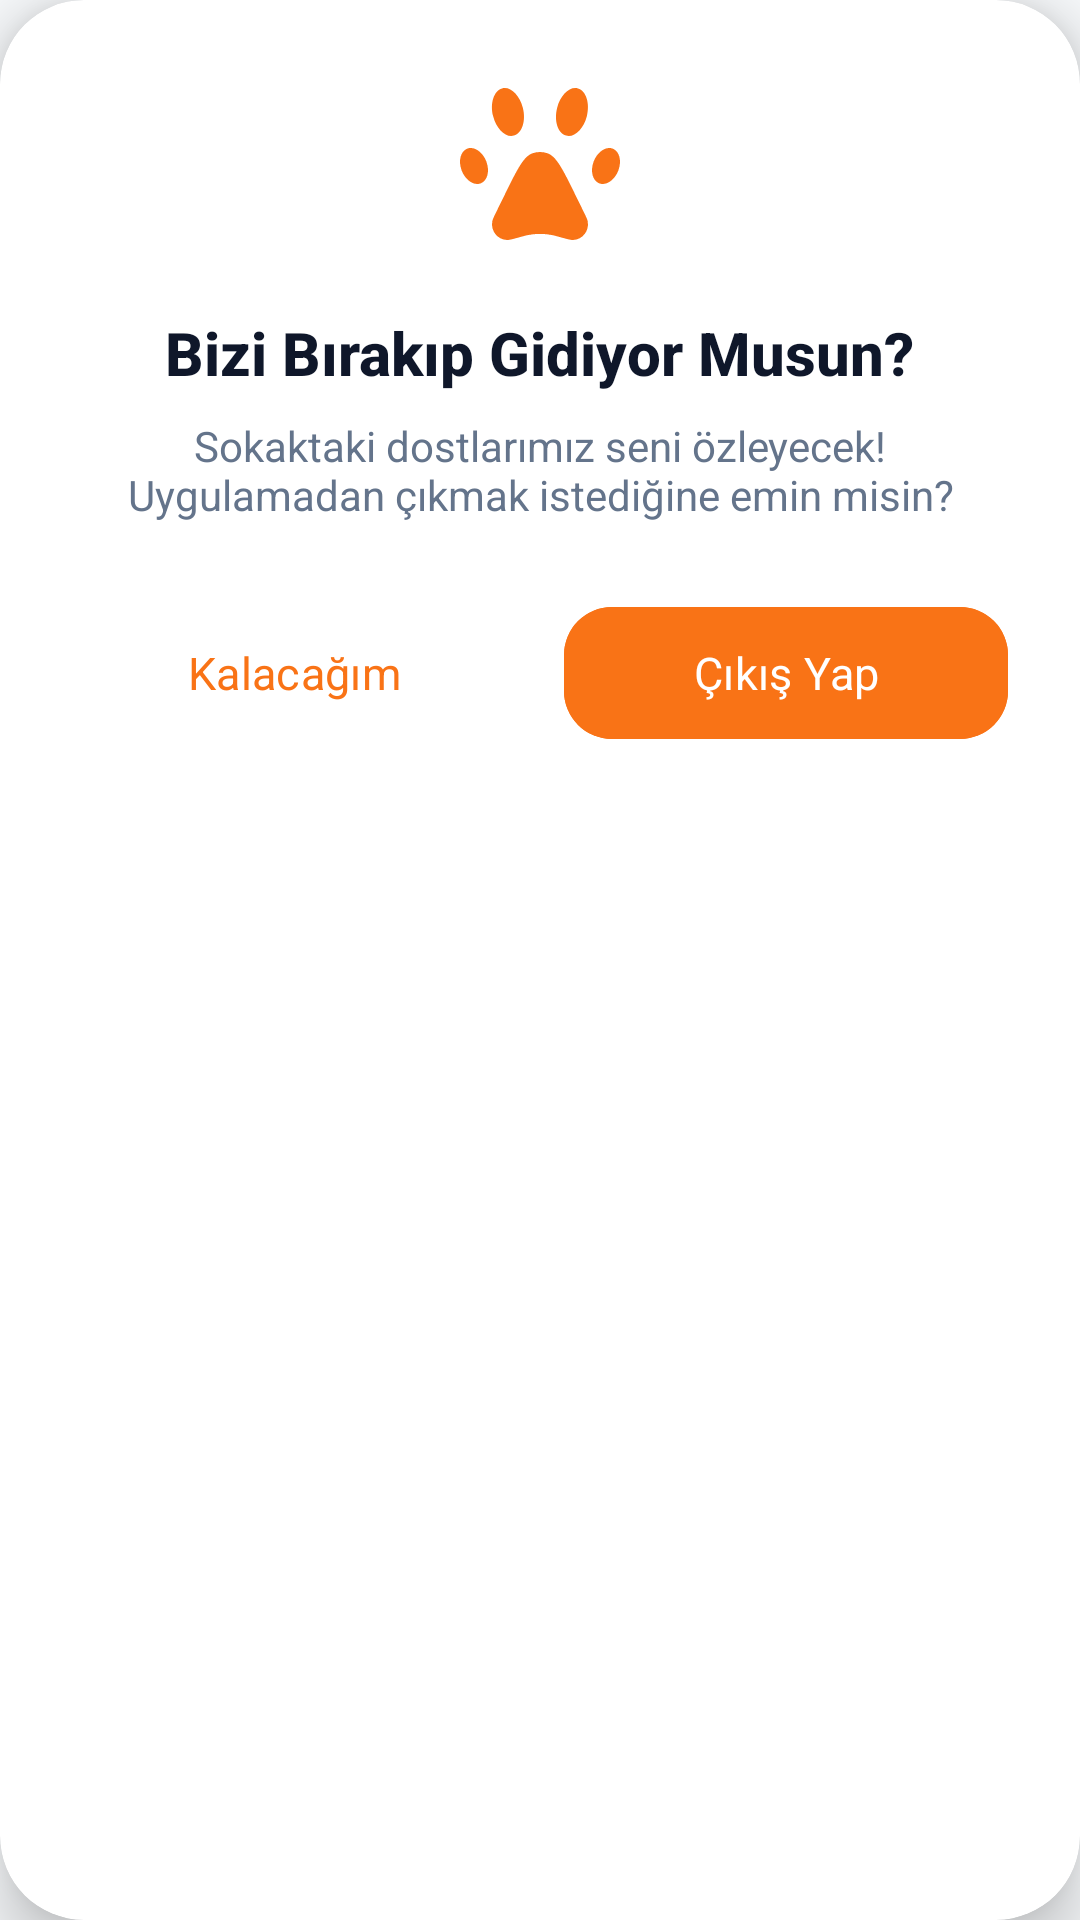

Icons on this 1080px×1920px Android screen, each with its box as (x1, y1, x2, y2):
patidolu: (460, 88, 620, 240)
